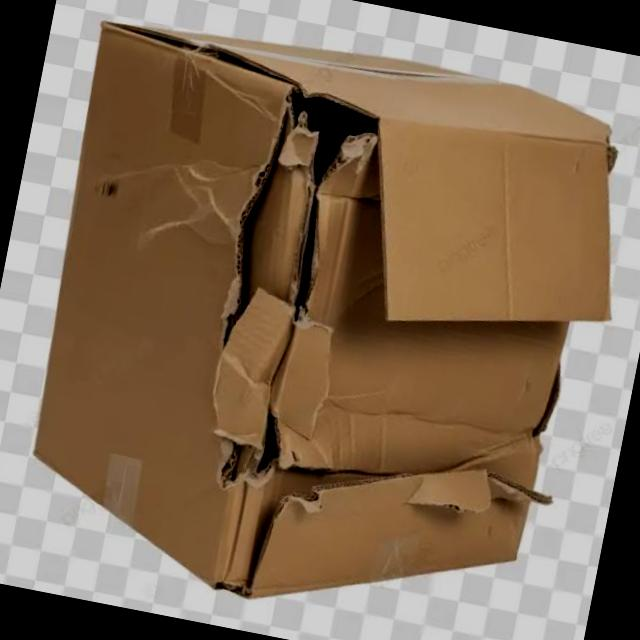package_damage: (99, 10, 548, 607)
